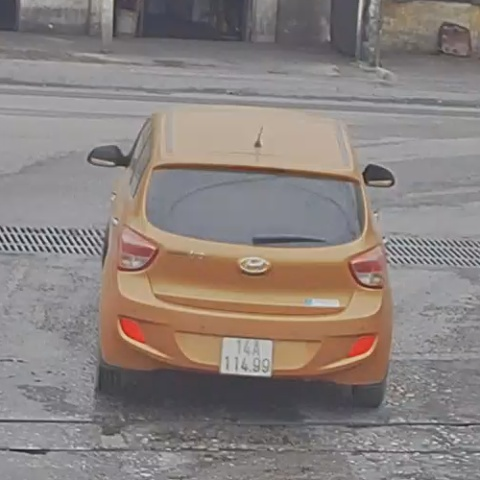vehicle plate: (217, 335, 274, 383)
